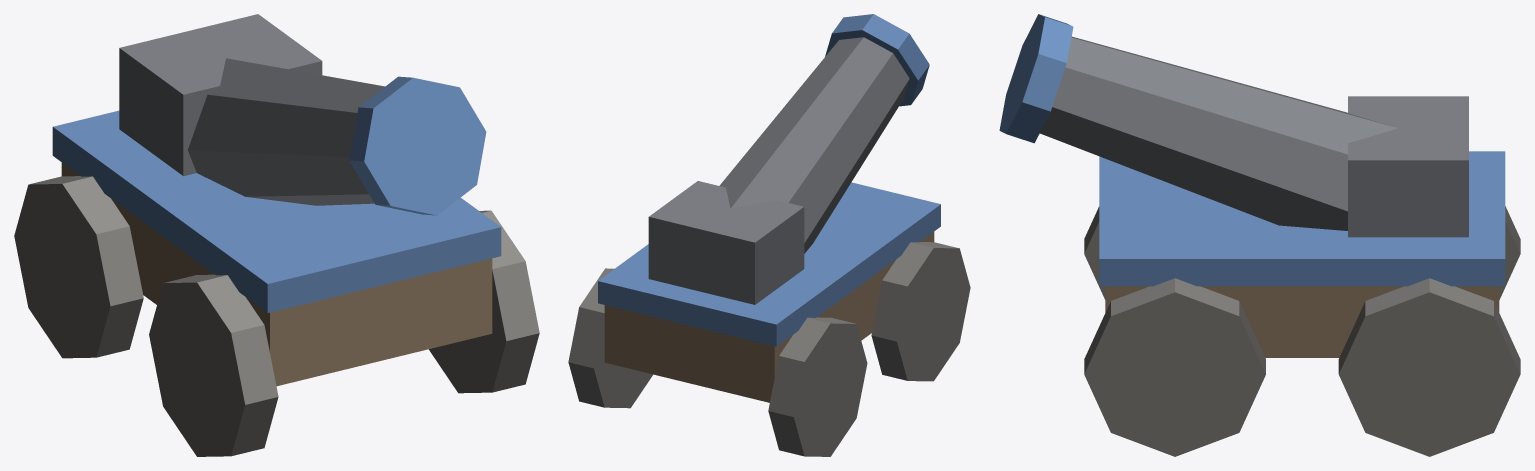
File: minion_siege_blue.glb
The picture shows the model from 3 angles, left to right: view 1: azimuth 30°, elevation 25°; view 2: azimuth 150°, elevation 25°; view 3: azimuth 270°, elevation 25°; orthographic projection. The views are drawn at different scales.
Bounding box in the file's own units: 1.06 × 1.35 × 1.72.
